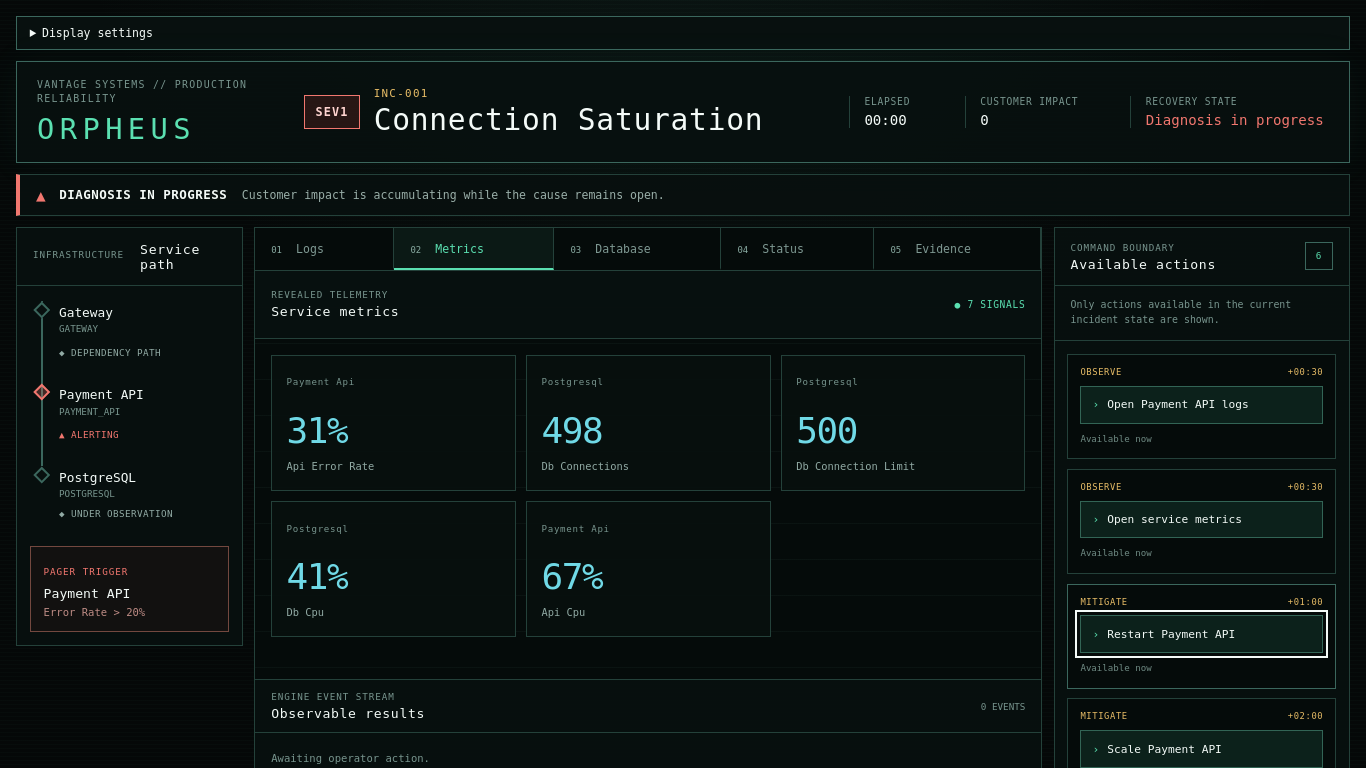
Test: INC-001 operations desktop › shows restart as temporary stabilization with its observable costs and signal changes
The image size is (1366, 768).
Press Enter
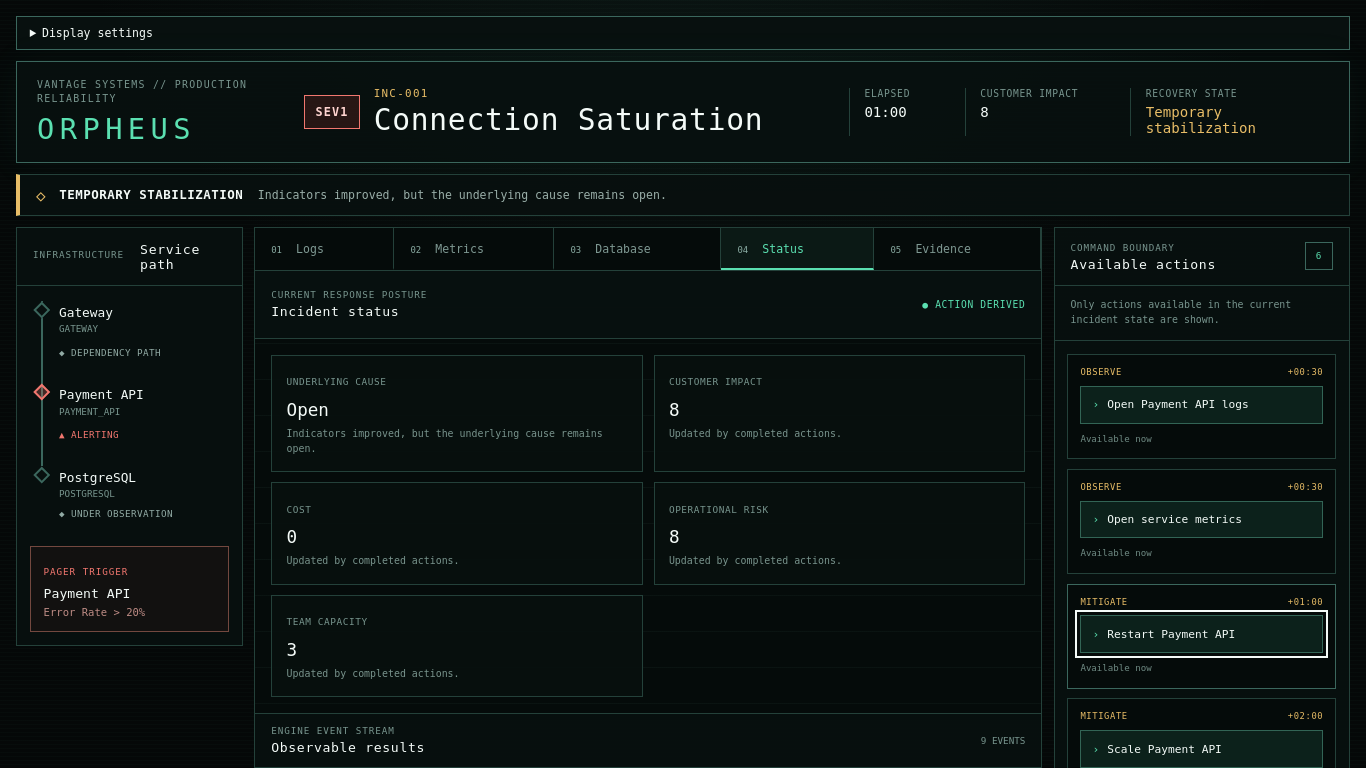
Result: the text with test id "elapsed-time" reads "01:00" at left=864, top=104, right=907, bottom=120
Result: the text "Indicators improved, but the underlying cause remains open." is shown 2 times at left=258, top=187, right=667, bottom=203; left=287, top=427, right=628, bottom=457
Result: the text "8" below "Elapsed" is shown at left=980, top=104, right=989, bottom=120
Click the tab "02 Metrics" at (474, 249), box left=394, top=228, right=554, bottom=270
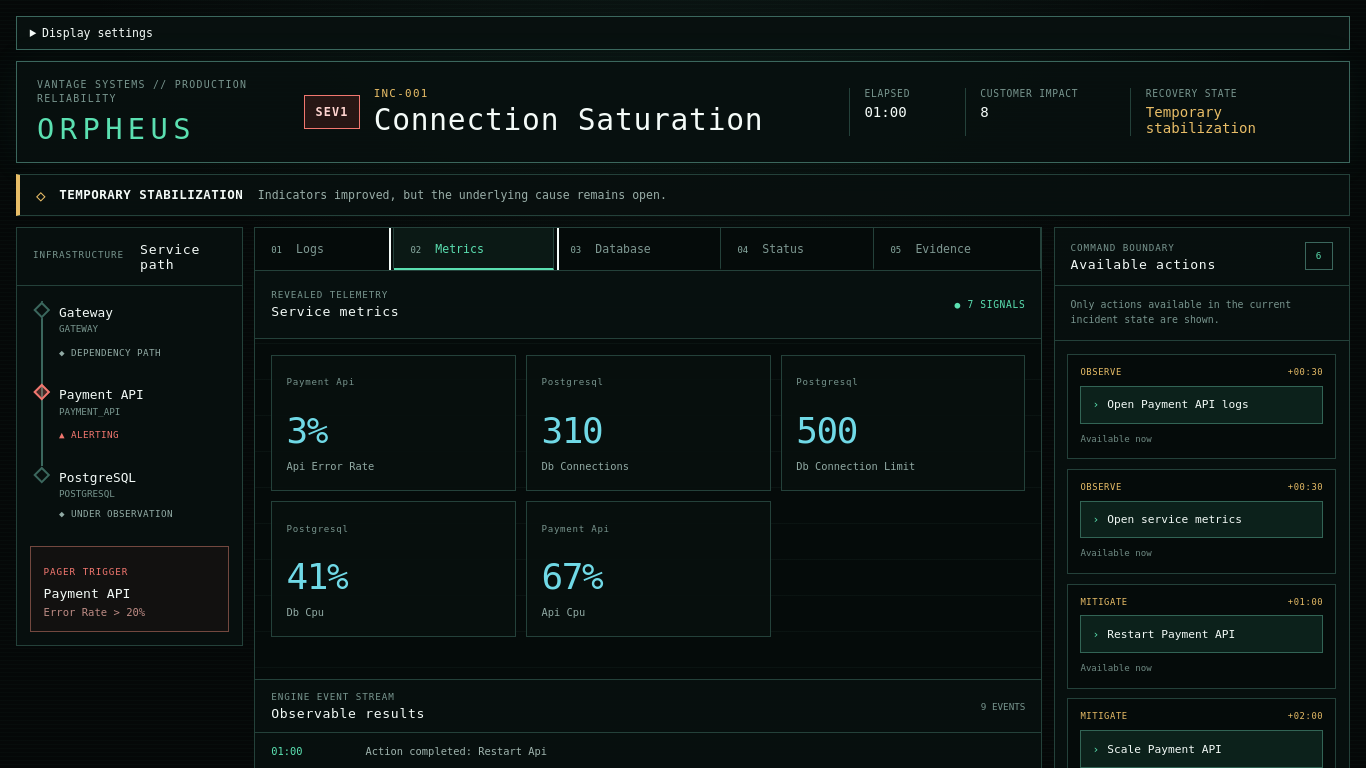
Result: the text "3%" is shown at left=287, top=410, right=327, bottom=451
Result: the text "310" is shown at left=542, top=410, right=602, bottom=451
